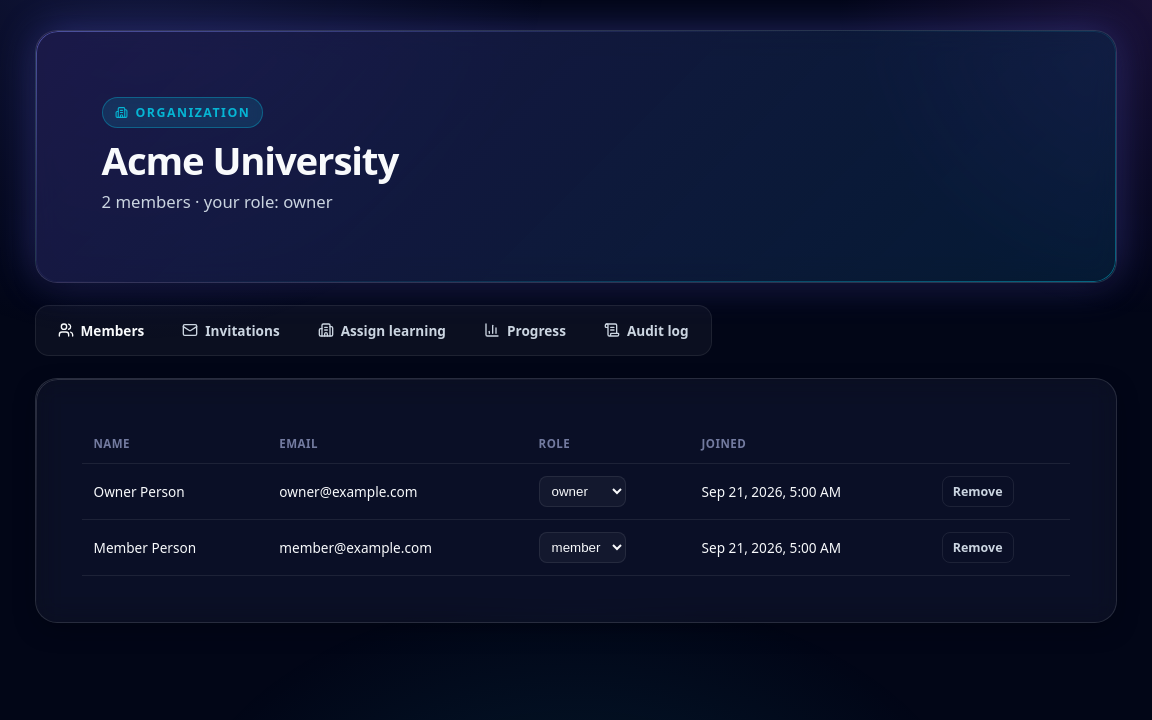
Scenario: OrganizationDetailPage › shows per-member progress
The image size is (1152, 720).
Step 1. Click the button "Progress" → click(525, 330), box top-left (468, 312), bottom-right (582, 348)
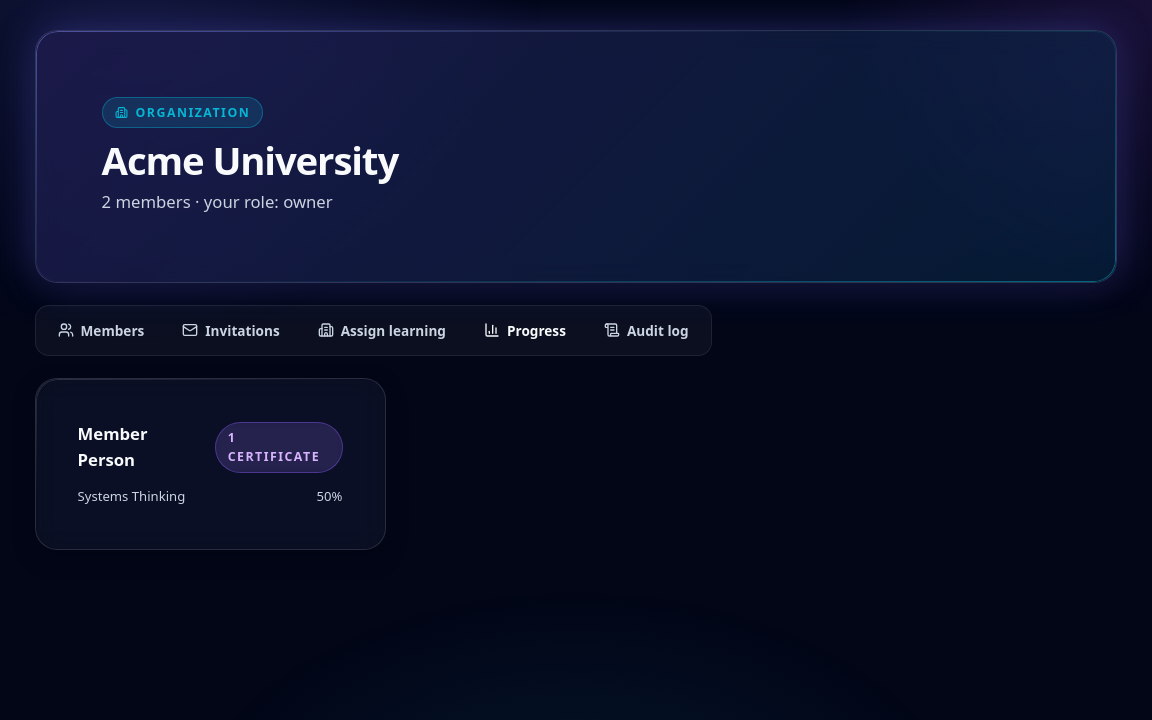
Expected: the text "Systems Thinking" is shown, top-left (78, 486), bottom-right (185, 507)
Expected: the text "50%" is shown, top-left (317, 486), bottom-right (342, 507)
